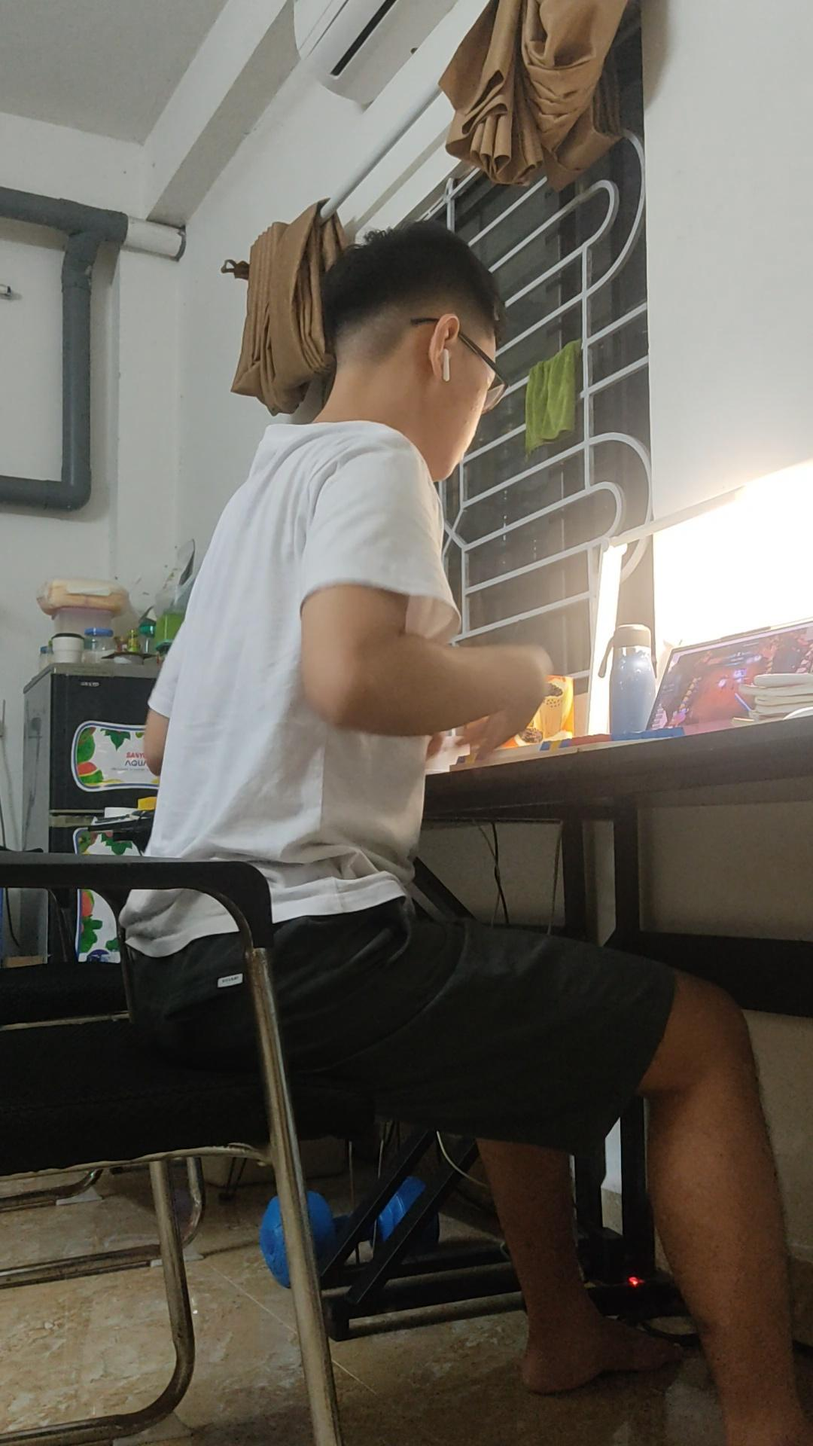GoodPosture: (148, 223, 812, 1445)
